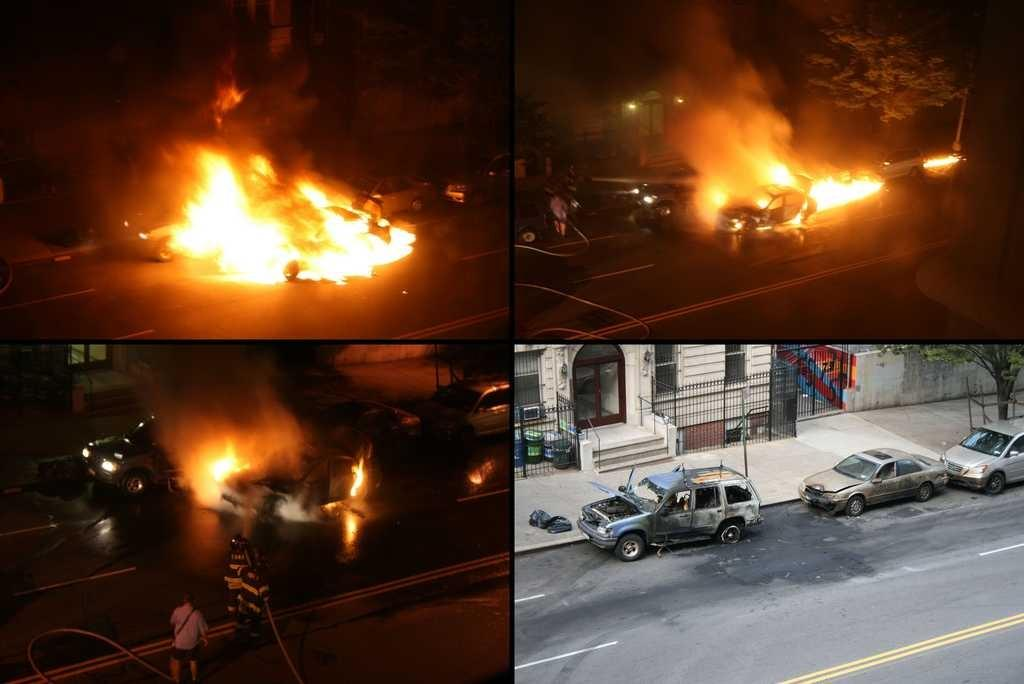fire: (198, 177, 352, 280), (808, 175, 878, 212), (210, 445, 247, 487)
